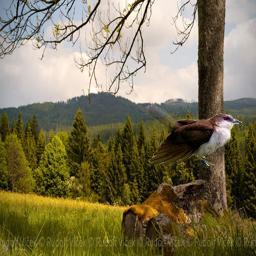Cuckoo: (149, 77, 244, 170)
